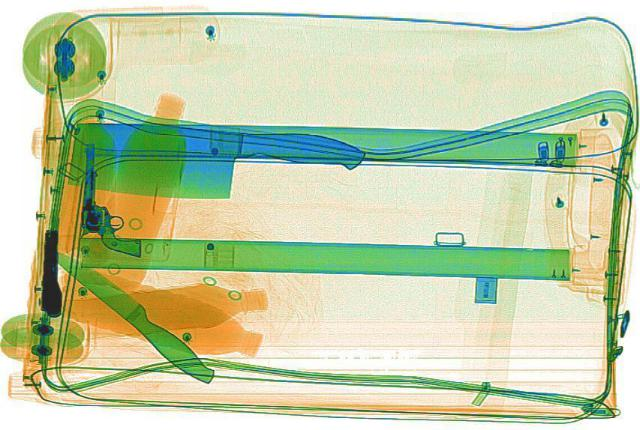Gun: (78, 140, 142, 254)
Knife: (54, 111, 370, 209), (38, 239, 224, 388), (34, 229, 66, 317)
